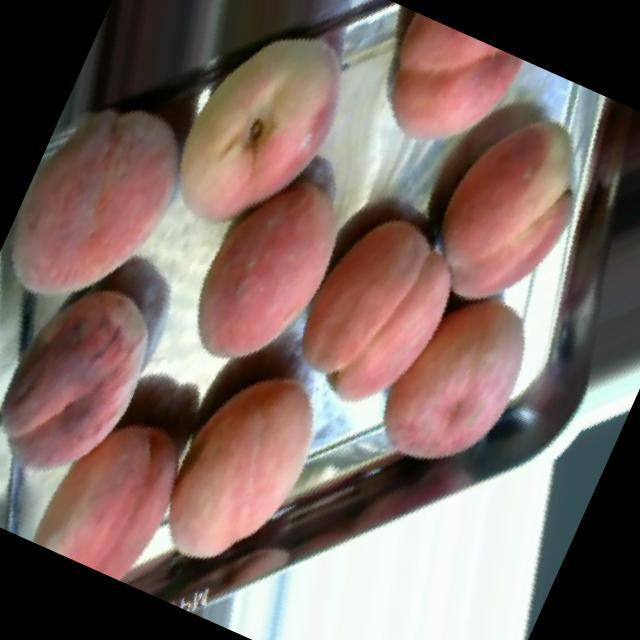Fruit: (295, 205, 598, 517), (115, 0, 402, 295), (110, 322, 374, 621), (0, 56, 243, 366), (383, 65, 638, 358), (139, 124, 369, 400), (0, 231, 209, 529), (0, 357, 233, 598), (335, 1, 543, 190)
